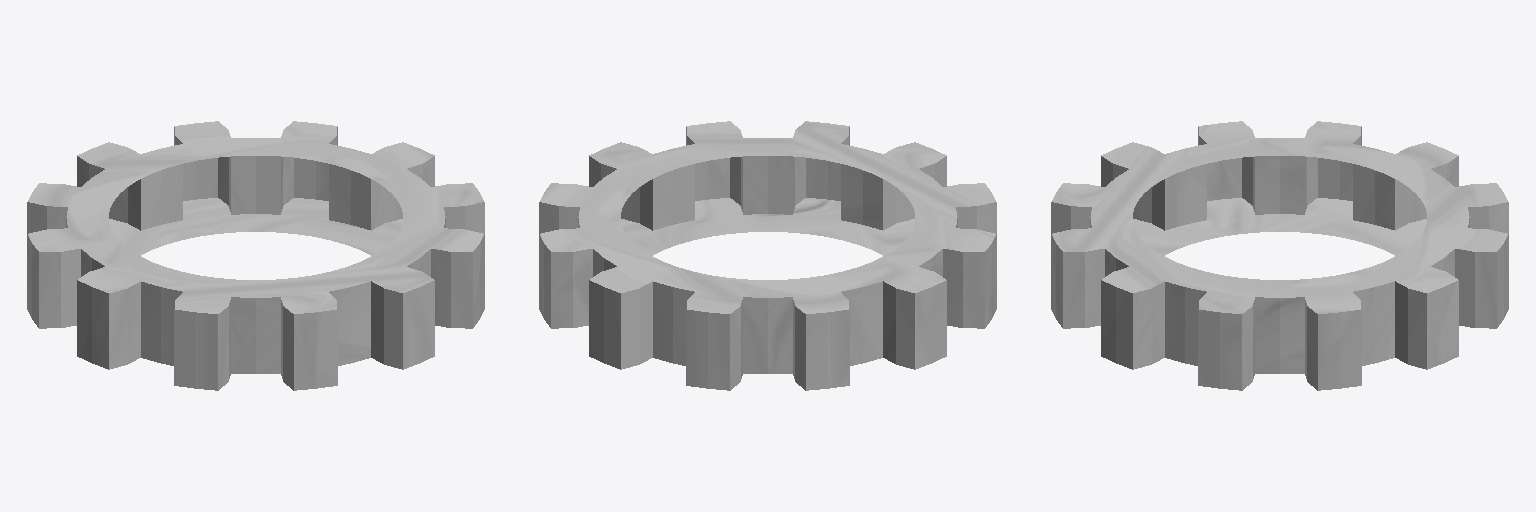
3 renders of one model, left to right at view 1: azimuth 30°, elevation 25°; view 2: azimuth 150°, elevation 25°; view 3: azimuth 270°, elevation 25°, orthographic.
Visible parts, largest first — view 1: Gear; view 2: Gear; view 3: Gear.
Part boxes in pixels (left/top/right/bottom): Gear: left=27, top=121, right=484, bottom=390; Gear: left=539, top=121, right=996, bottom=390; Gear: left=1051, top=121, right=1508, bottom=390.
Size of the model in its own units: 2.17 by 0.4 by 2.17.
Materials: 1 (1 with a texture image).